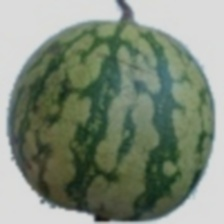watermelon: (24, 35, 179, 200)
